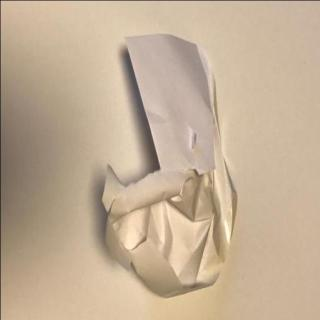Anorganik: (96, 26, 242, 304)
